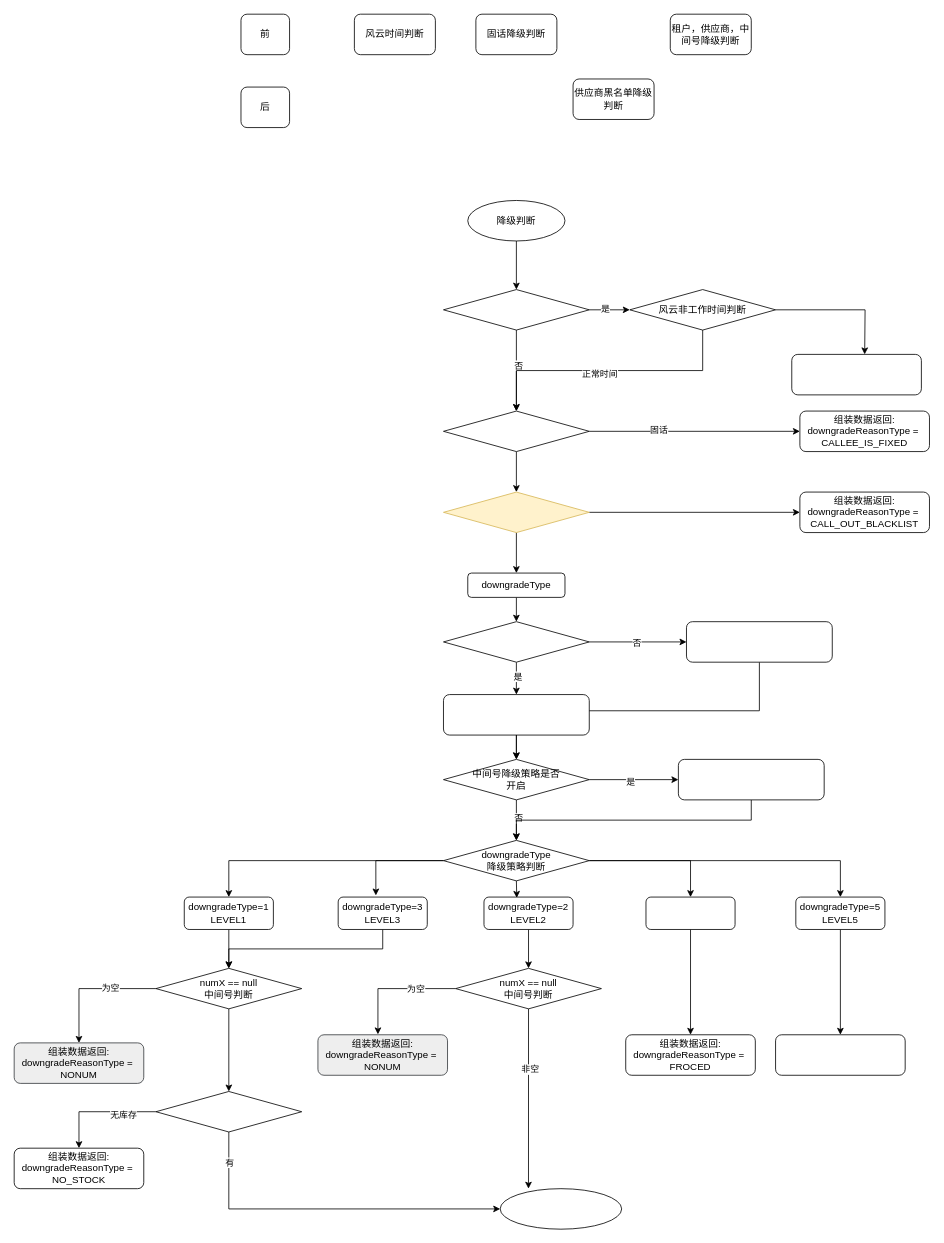
Some shapes in this 944 by 1243 pixel diagram are drawn without their labels. The box of each missing label's shape, as (x1, y1, x2, y2) in pixels:
downgradeType=4 LEVEL4: (645, 896, 735, 929)
供应商降级策略是否 开启: (443, 621, 589, 662)
是否为固话: (443, 410, 589, 452)
是否为风云号码 numXTag == FENG_YUN_PLAN: (443, 289, 589, 330)
是否有库存 (可用权益): (155, 1091, 302, 1132)
正常信息返回 numInfo: (499, 1188, 622, 1229)
租户降级策略 downgradeType = tb_call_conf . downgrade_type: (686, 621, 832, 662)
组装数据返回: downgradeReasonType = NO_WORK_TIME: (791, 354, 921, 395)
组装数据返回: downgradeReasonType = NUM_FORCED: (775, 1034, 905, 1075)
获取到numX后， 供应商黑名单判断: (443, 491, 589, 533)
选择当前降级策略和号码降级策略维度下的最高降级级别: (678, 759, 824, 800)
选择租户和运营商两个维度下的最高降级级别: (443, 694, 589, 735)
